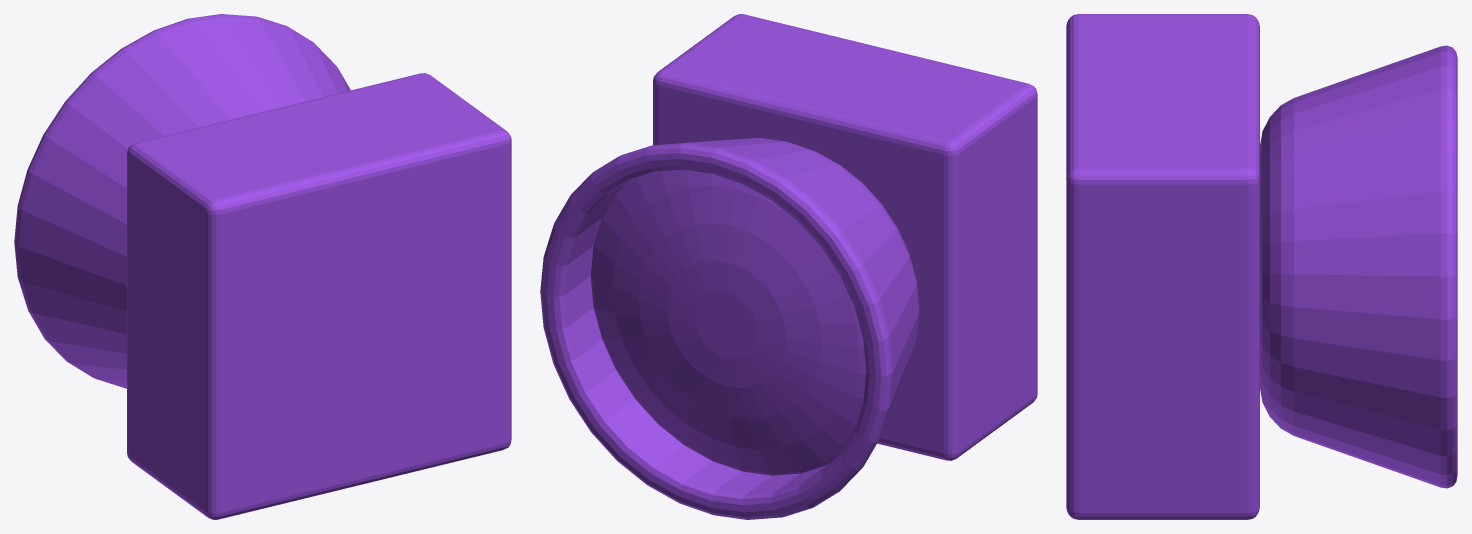
Rendered from camera.glb.
3 views of the same model, side by side, from view 1: azimuth 30°, elevation 25°; view 2: azimuth 150°, elevation 25°; view 3: azimuth 270°, elevation 25° (orthographic). The views are drawn at different scales.
Parts seen in each view (by area): view 1: Cube; view 2: Cube; view 3: Cube.
Boxes of the visible parts, x1=… form: Cube: x1=14, y1=14, x2=511, y2=519; Cube: x1=540, y1=14, x2=1037, y2=519; Cube: x1=1066, y1=14, x2=1457, y2=519.
Size of the model in its own units: 2.29 by 2.29 by 2.02.
